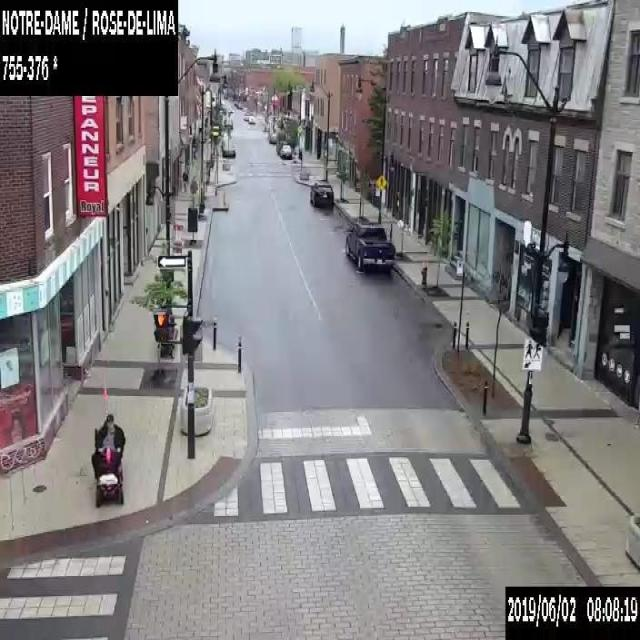pedestrian: (90, 412, 125, 507), (181, 169, 187, 191)
vehicle: (344, 222, 394, 273), (309, 180, 333, 206), (279, 144, 291, 157), (222, 145, 234, 157), (223, 117, 232, 128), (268, 133, 276, 143), (248, 116, 255, 123)
